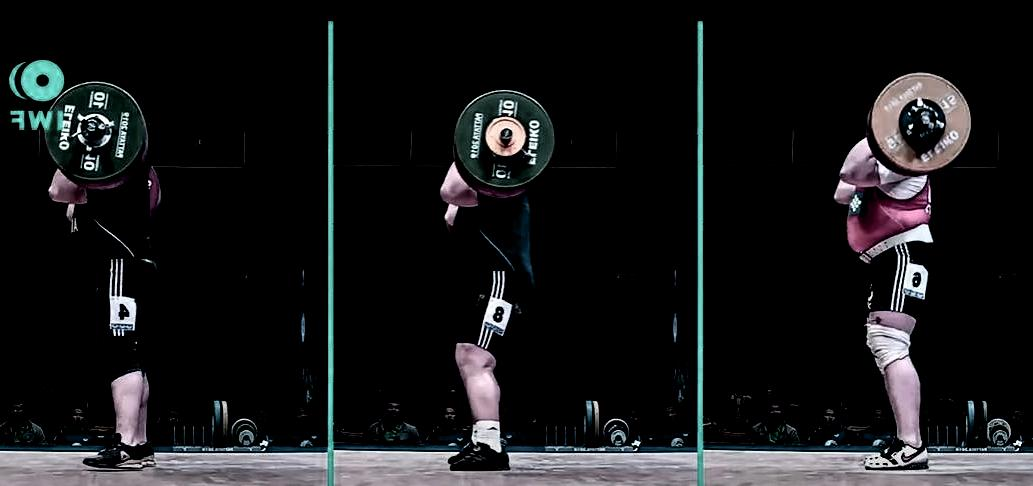Barbell: (78, 118, 101, 138), (494, 123, 514, 145), (915, 109, 935, 128)
